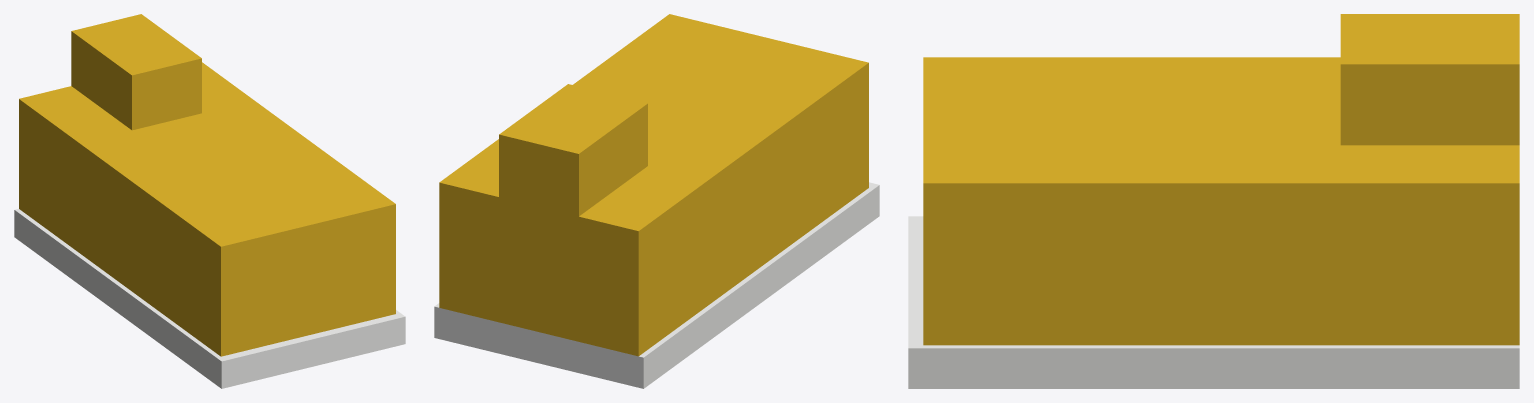
File: sneaker.glb
The picture shows the model from 3 angles, left to right: view 1: azimuth 30°, elevation 25°; view 2: azimuth 150°, elevation 25°; view 3: azimuth 270°, elevation 25°; orthographic projection. The views are drawn at different scales.
Visible parts, largest first — view 1: sneaker; view 2: sneaker; view 3: sneaker.
Boxes of the visible parts, x1,y1,x2,y2 form: sneaker: (14,14,405,388); sneaker: (434,14,879,388); sneaker: (908,14,1519,388).
Bounding box in the file's own units: 0.105 × 0.105 × 0.205.
Materials: 1 (1 with a texture image).
